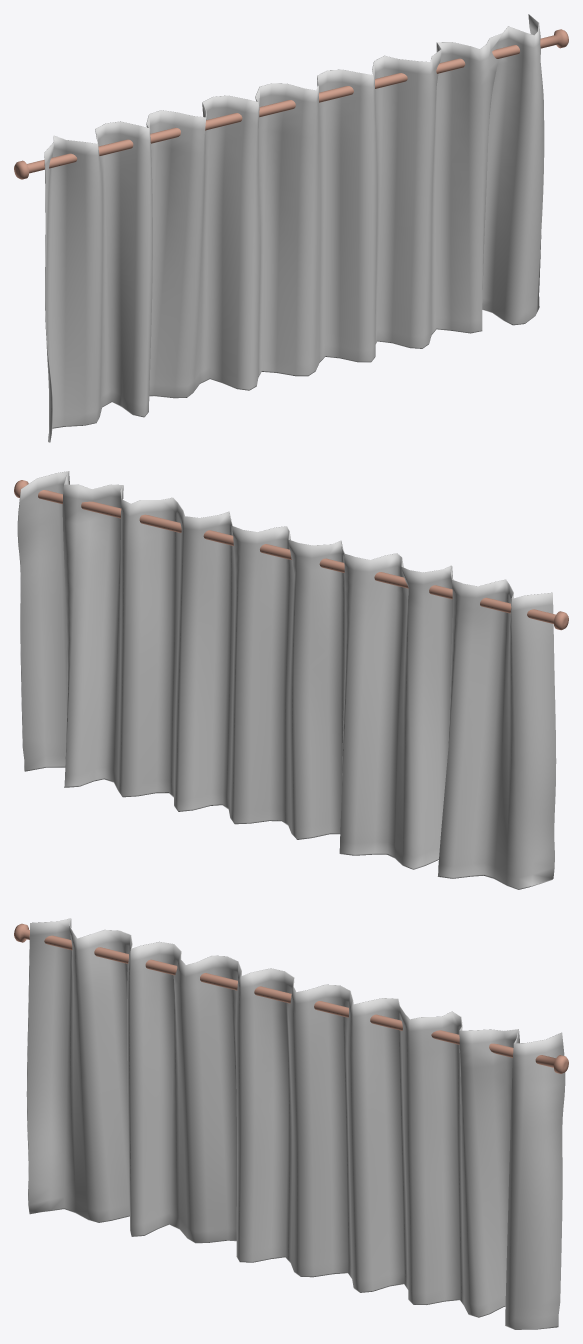
File: curtain.fbx
3 views of the same model, one above another, from view 1: azimuth 30°, elevation 25°; view 2: azimuth 150°, elevation 25°; view 3: azimuth 330°, elevation 25° (orthographic).
Visible parts, largest first — view 1: Curtain; view 2: Curtain; view 3: Curtain.
Boxes of the visible parts, x1,y1,x2,y2 form: Curtain: (14, 14, 568, 442); Curtain: (14, 471, 568, 889); Curtain: (14, 918, 568, 1329).
Bounding box in the file's own units: 470 × 240 × 47.13.
